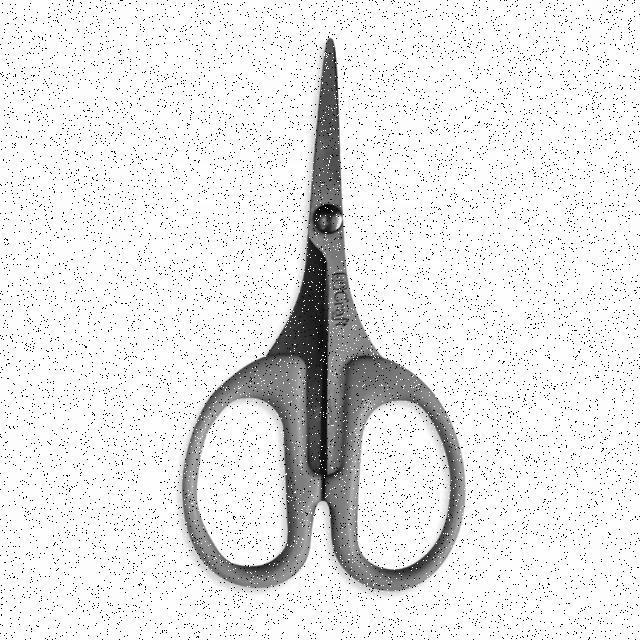scissors: (176, 32, 470, 598)
